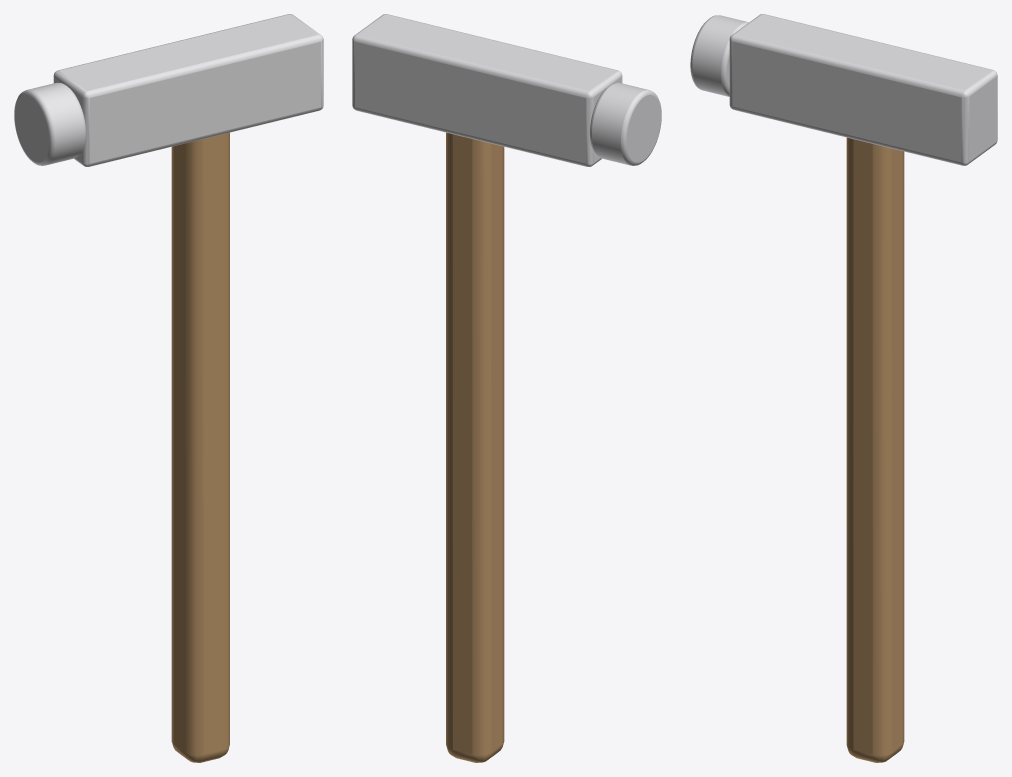
File: hammer.glb
3 renders of one model, left to right at view 1: azimuth 30°, elevation 25°; view 2: azimuth 150°, elevation 25°; view 3: azimuth 330°, elevation 25°, orthographic.
Parts seen in each view (by area): view 1: handle, head; view 2: handle, head; view 3: handle, head.
Part boxes in pixels (x1=…): handle: x1=171, y1=132, x2=229, y2=762; head: x1=14, y1=14, x2=323, y2=166; handle: x1=446, y1=132, x2=504, y2=762; head: x1=352, y1=14, x2=661, y2=166; handle: x1=846, y1=137, x2=904, y2=762; head: x1=690, y1=14, x2=997, y2=165.
Size of the model in its own units: 0.115 by 0.28 by 0.028.
